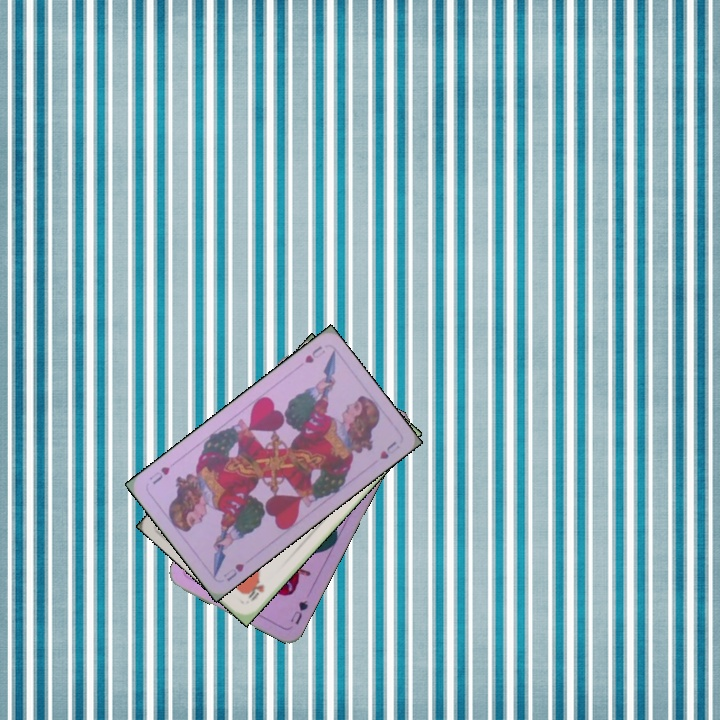GU: (286, 596, 311, 627)
HO: (244, 577, 267, 604)
HU: (219, 559, 247, 584), (300, 341, 328, 366)
